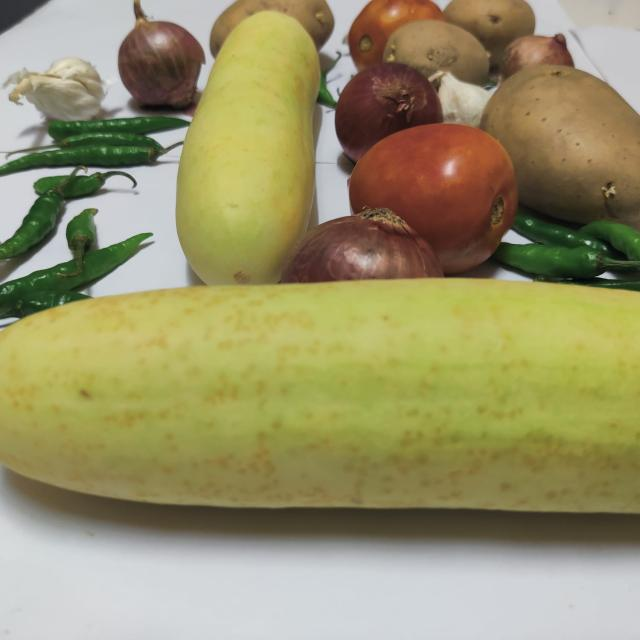Organik: (0, 270, 640, 525), (163, 8, 319, 306), (362, 122, 522, 260), (498, 70, 640, 200), (0, 125, 172, 199), (118, 5, 206, 110), (515, 210, 640, 282), (0, 55, 100, 124)
